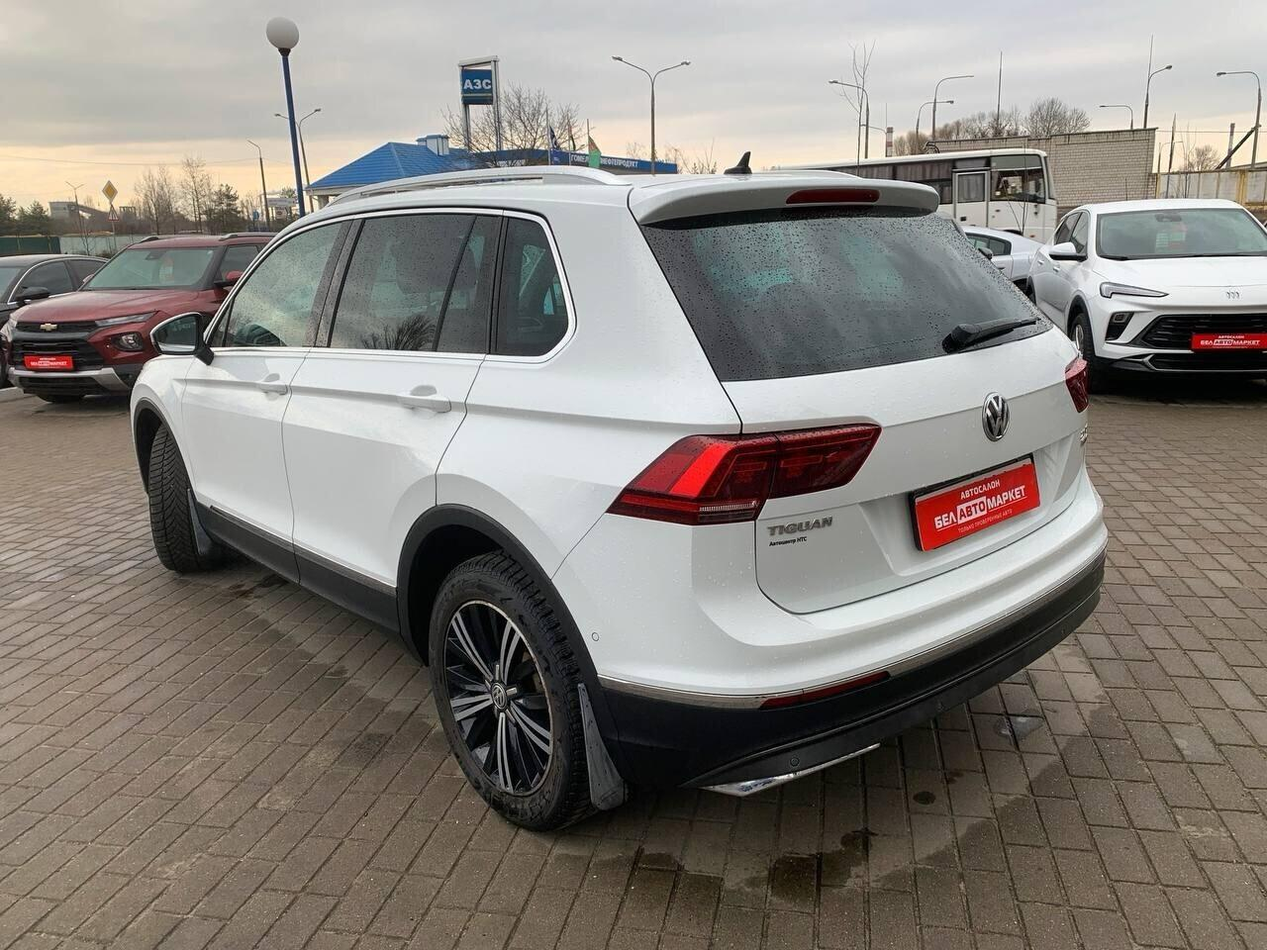Tiguan_2016-2021: (126, 163, 1109, 829)
